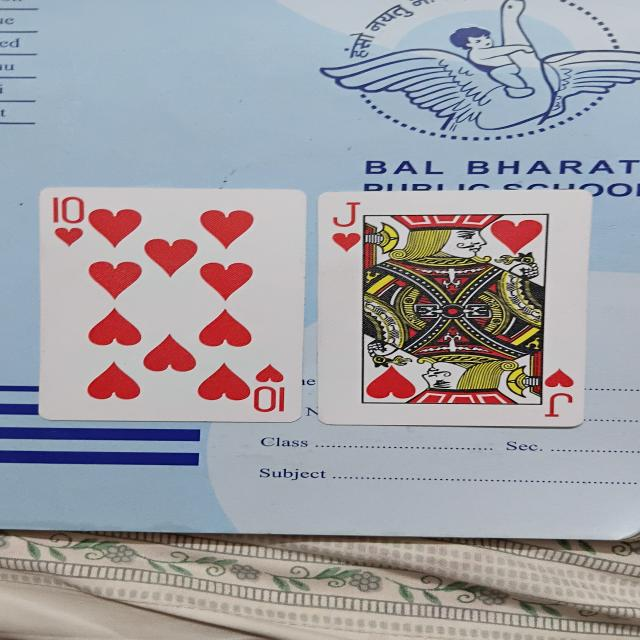10H: (39, 182, 307, 423)
JH: (329, 190, 582, 430)
